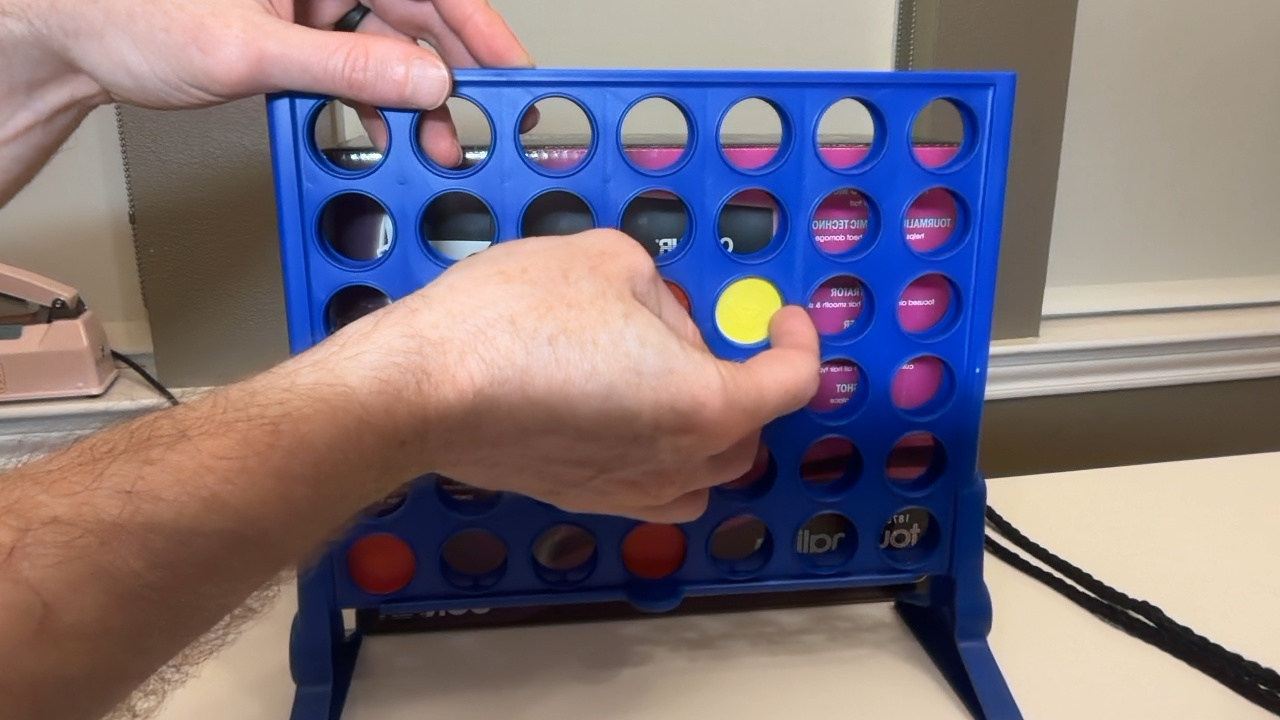red piece: (347, 533, 415, 594), (621, 523, 686, 579)
yellow piece: (716, 277, 782, 344)
